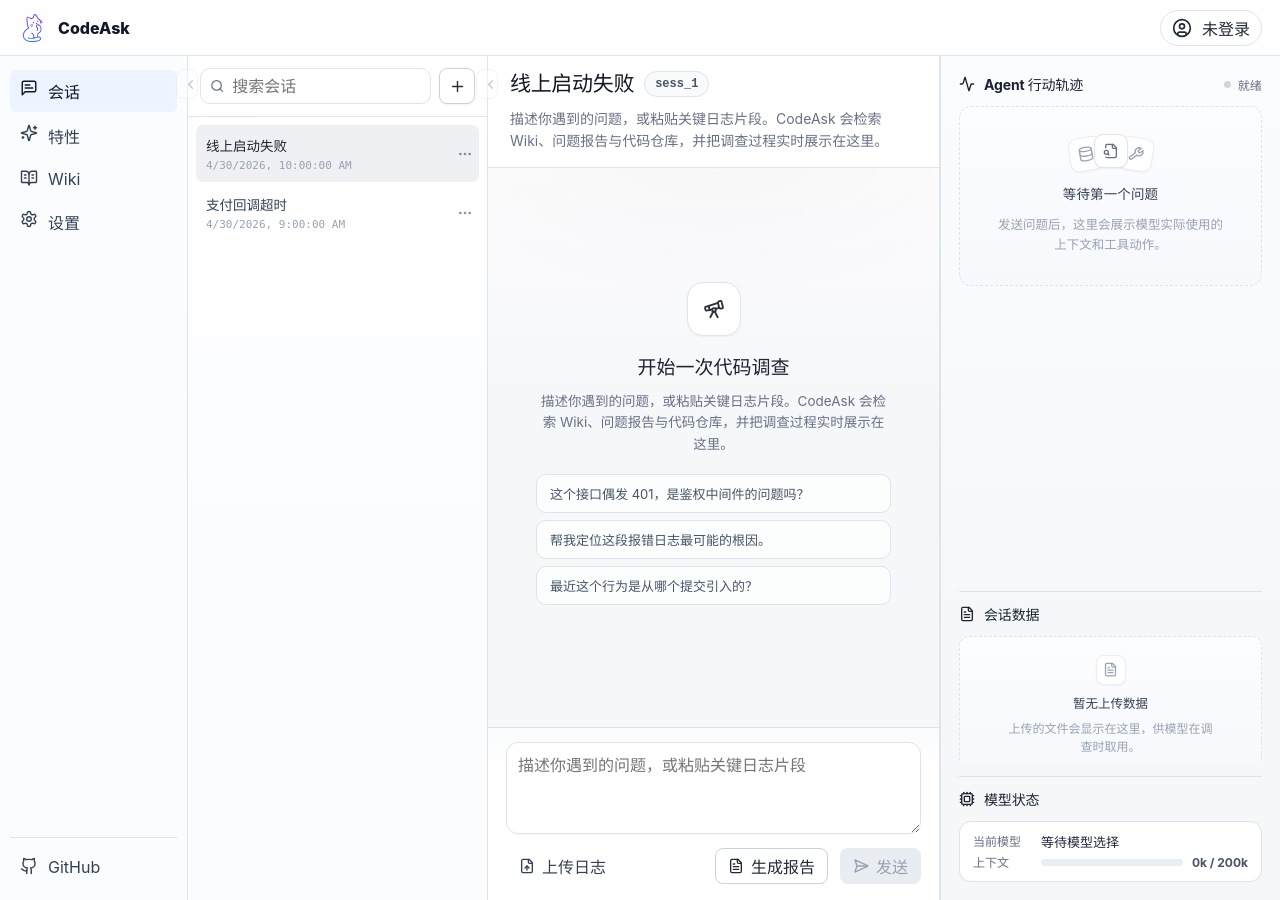
Test: SessionWorkspace streaming interaction › deletes a session from the session list
Expected: the text "线上启动失败" is shown, 206,135 -> 287,155
Step 1. Click the button named "打开会话 线上启动失败 的更多操作" → (465, 154), box 451,140 -> 479,168
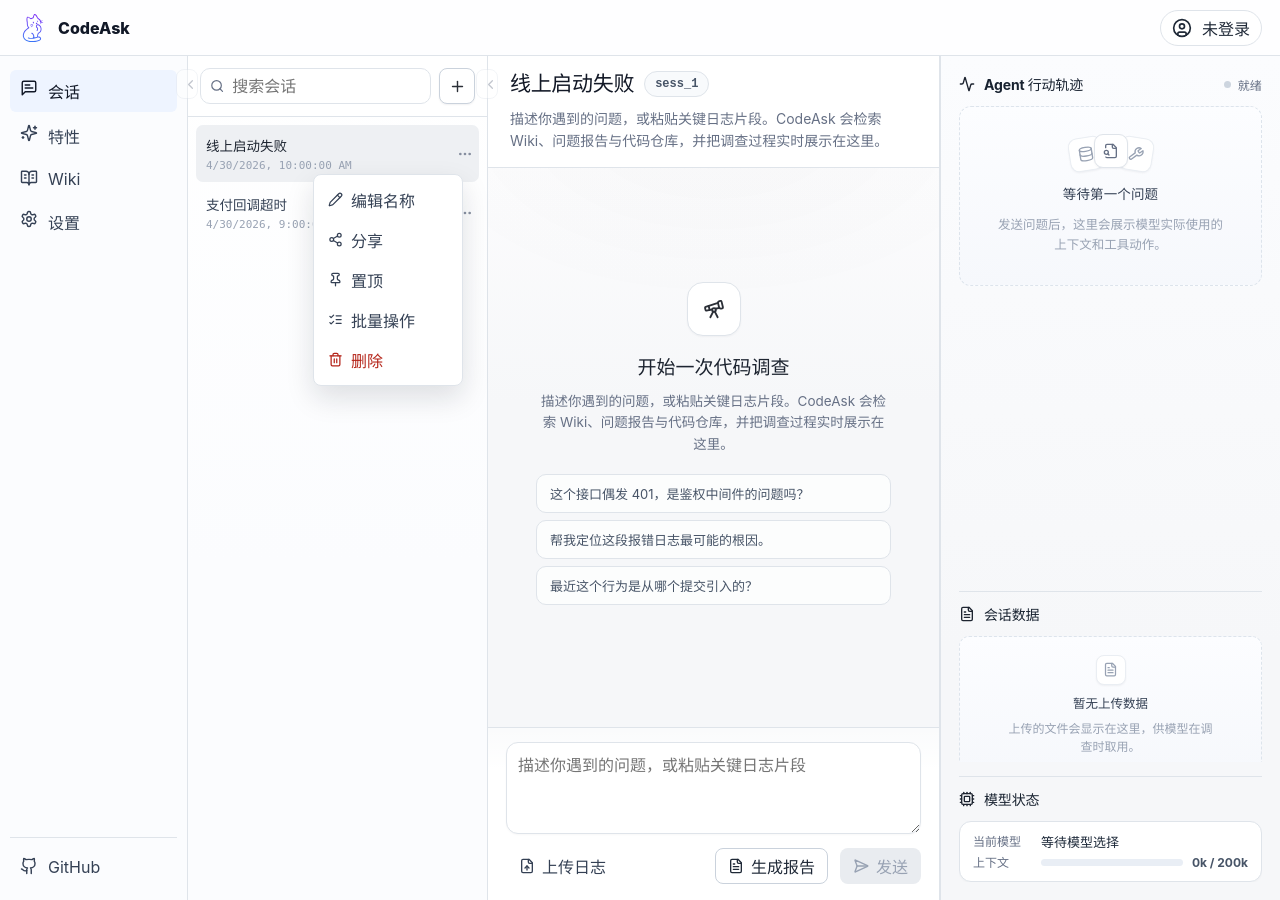
Step 2. Click the menu item "删除" → (388, 360), box 319,340 -> 457,380
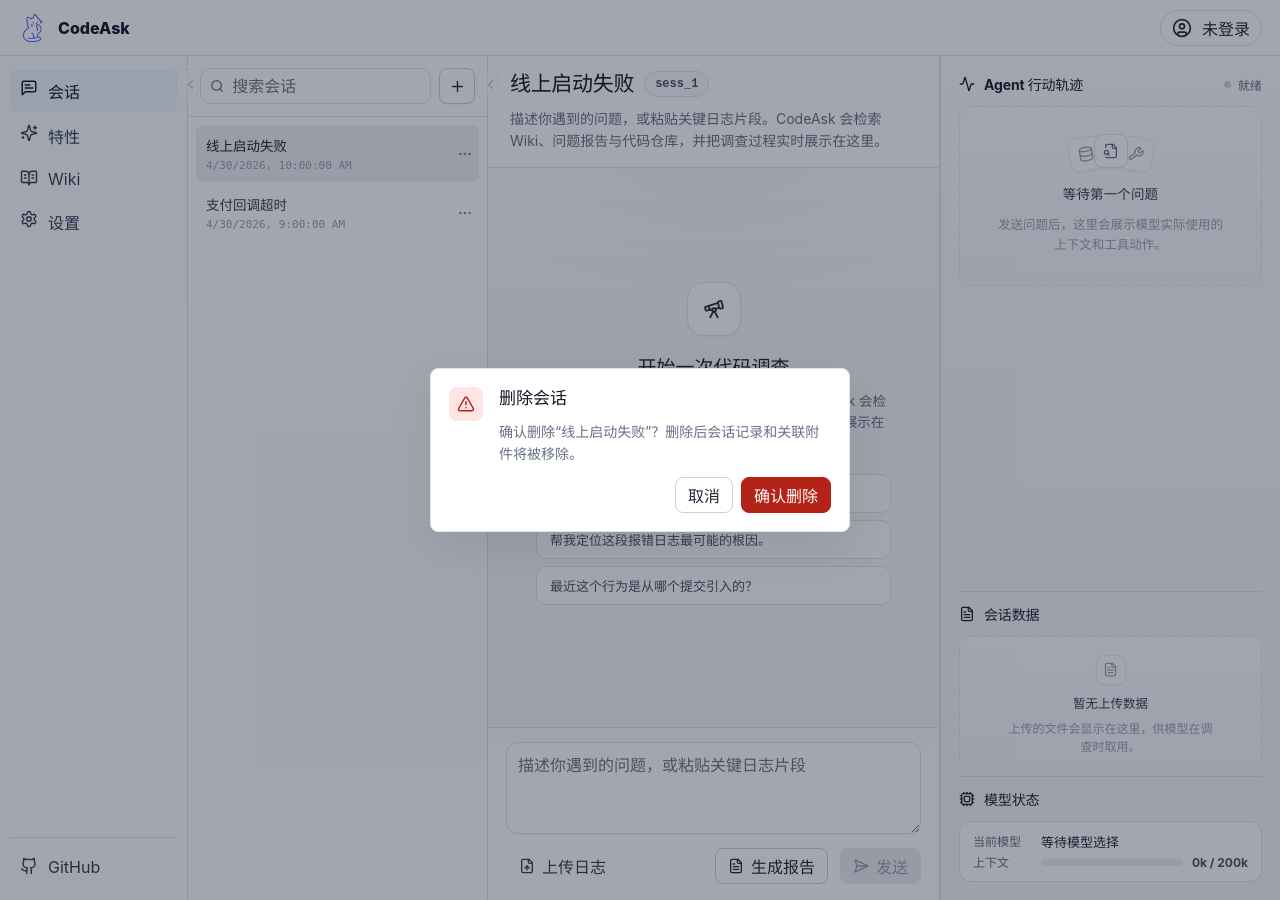
Now the dialog "删除会话" is shown, box 430,368 -> 850,532
Step 3. Click the button "确认删除" → (786, 495), box 741,477 -> 831,513
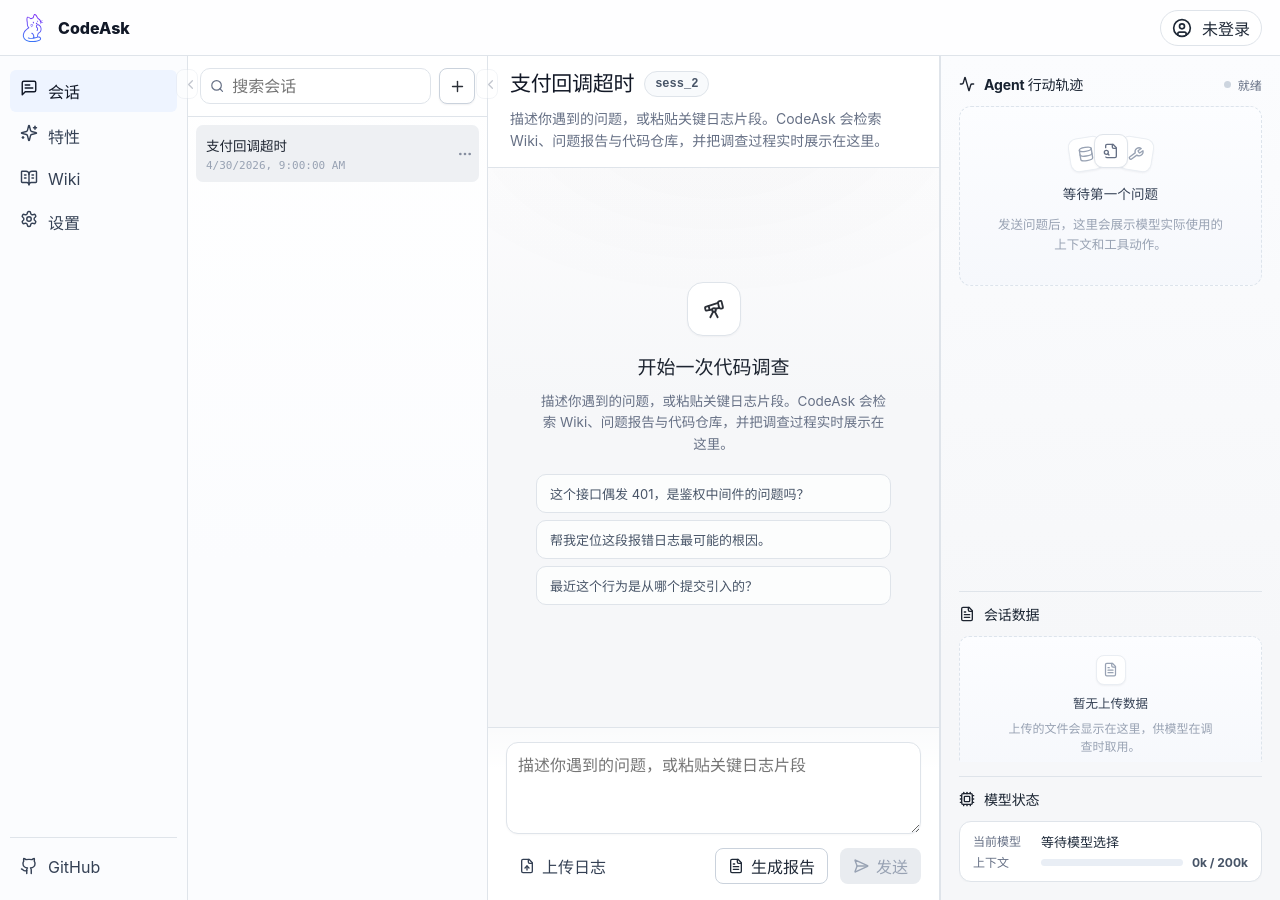
Expected: the text "支付回调超时" is shown, 206,135 -> 287,155
Now the button "线上启动失败" is gone
